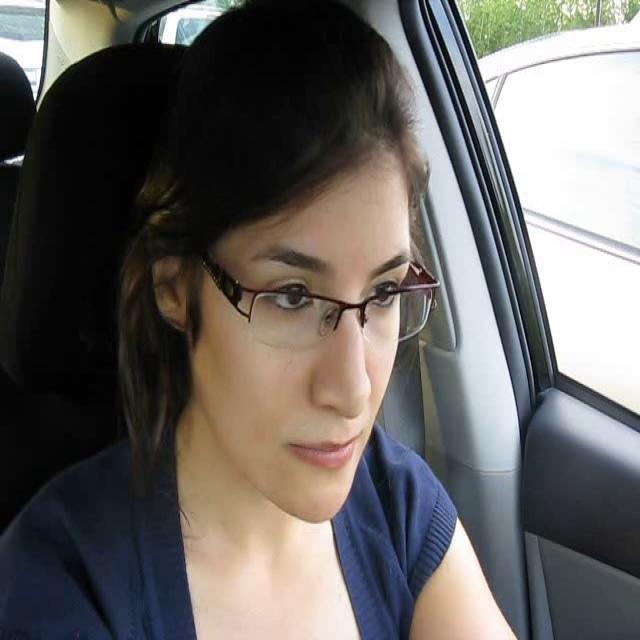close: (283, 430, 357, 474)
